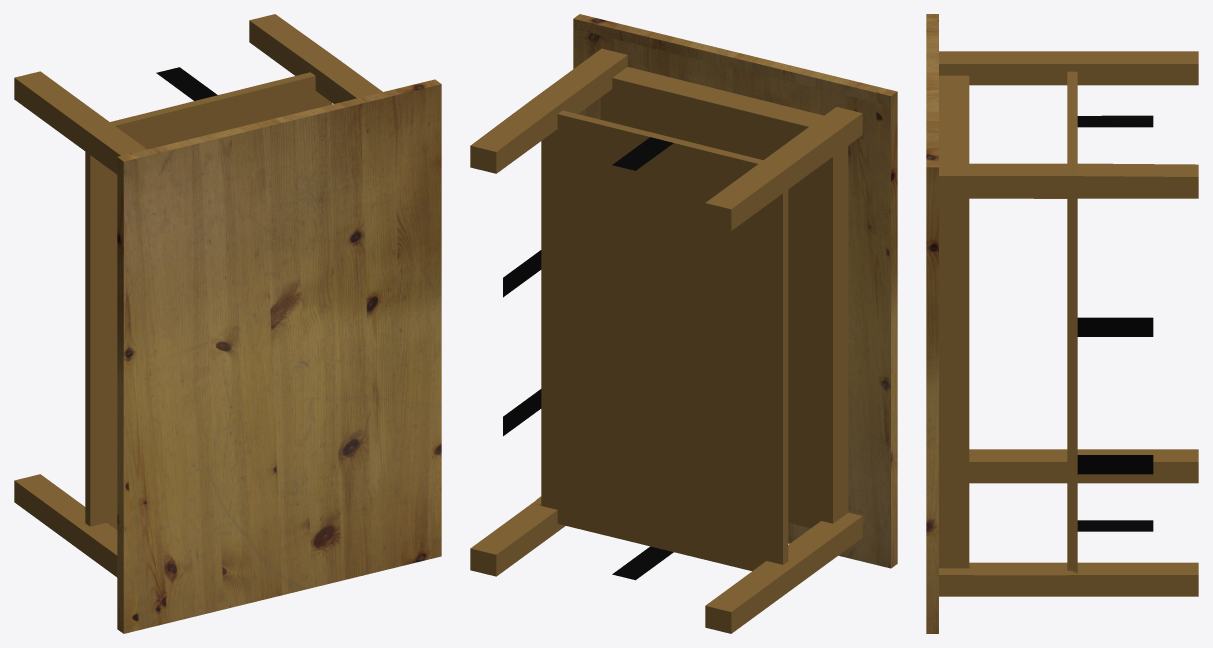
File: table_living_room1d51d21d4.obj
The picture shows the model from 3 angles, left to right: view 1: azimuth 30°, elevation 25°; view 2: azimuth 150°, elevation 25°; view 3: azimuth 270°, elevation 25°; orthographic projection.
Parts seen in each view (by area): view 1: table_living_room1d51d21d4; view 2: table_living_room1d51d21d4; view 3: table_living_room1d51d21d4.
Part boxes in pixels (bbox=[...]): table_living_room1d51d21d4: bbox=[14, 14, 441, 633]; table_living_room1d51d21d4: bbox=[470, 14, 897, 633]; table_living_room1d51d21d4: bbox=[926, 14, 1198, 633].
Size of the model in its own units: 1.01 by 1.43 by 0.7554.
2 materials, 1 textured.
